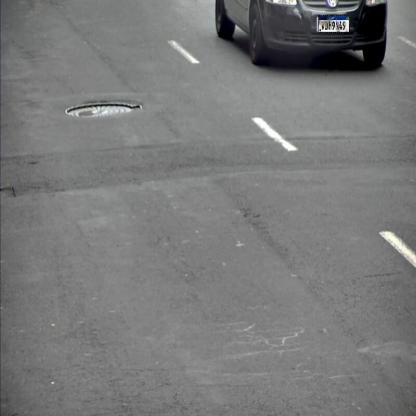PlacaM: (318, 15, 350, 33)
